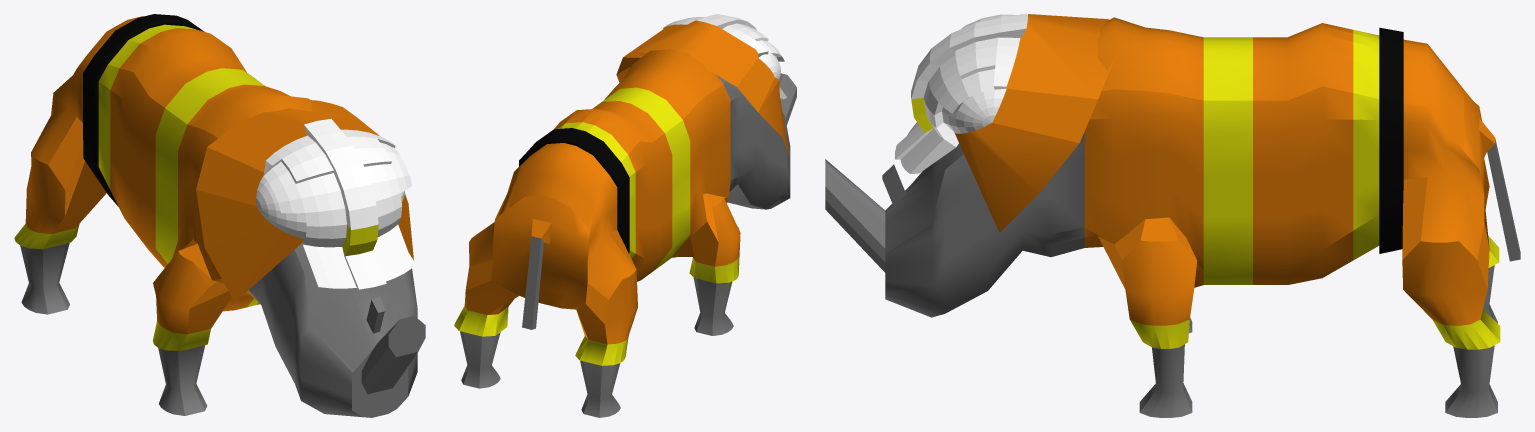
Rendered from sai_1.fbx.
3 views of the same model, side by side, from view 1: azimuth 30°, elevation 25°; view 2: azimuth 150°, elevation 25°; view 3: azimuth 270°, elevation 25° (orthographic). The views are drawn at different scales.
Visible parts, largest first — view 1: pCube8, helmet; view 2: pCube8, helmet; view 3: pCube8, helmet.
Part boxes in pixels (x1,y1,x2,y2): pCube8: (14, 14, 425, 417); helmet: (196, 100, 413, 301); pCube8: (454, 49, 796, 417); helmet: (616, 14, 789, 156); pCube8: (825, 17, 1520, 417); helmet: (895, 14, 1113, 232).
Size of the model in its own units: 2.73 by 3.89 by 7.11.
